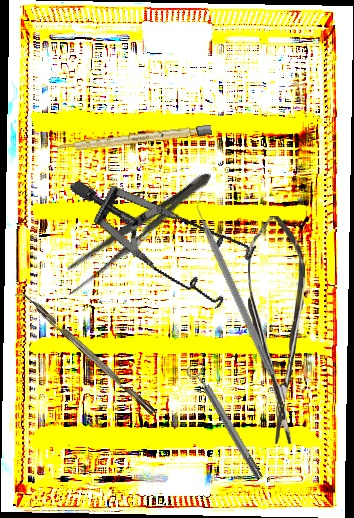Chopper: (11, 286, 157, 422), (188, 189, 285, 377)
Dressing Forceps: (53, 162, 220, 301)
Fixation Ring: (183, 359, 269, 484)
Micro Scissor: (248, 216, 305, 444)
Scalpel Handle: (55, 124, 213, 154)
Speculum: (69, 122, 273, 343)
